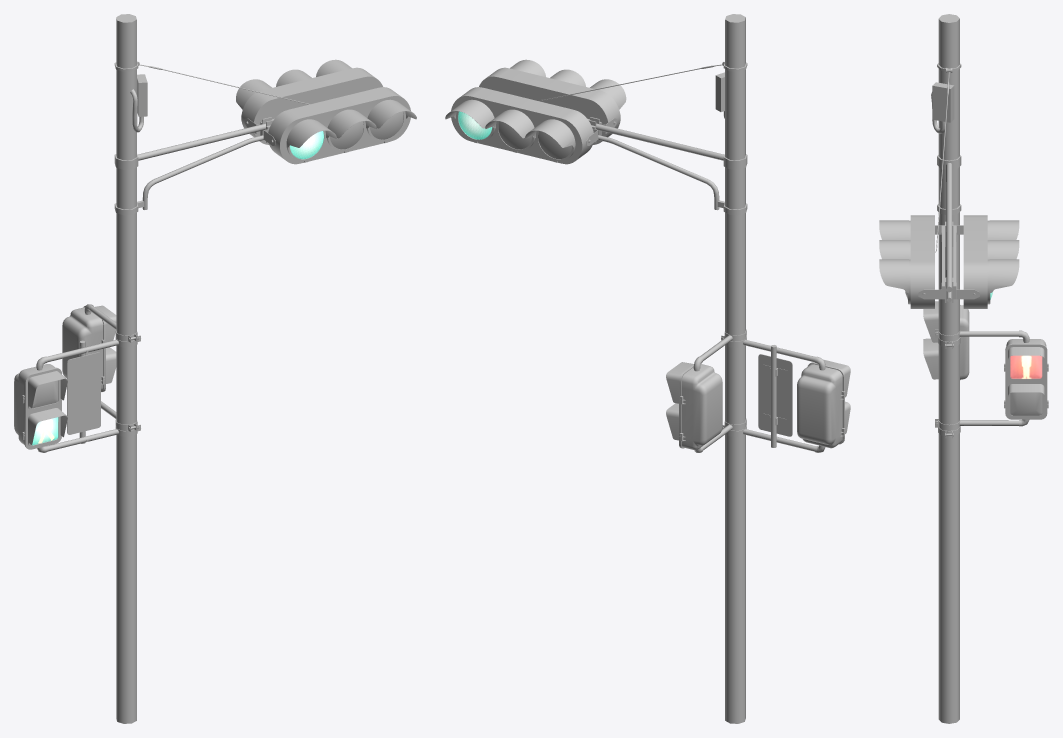
File: TrafficLight.fbx
3 views of the same model, side by side, from view 1: azimuth 30°, elevation 25°; view 2: azimuth 150°, elevation 25°; view 3: azimuth 270°, elevation 25° (orthographic).
Visible parts, largest first — view 1: TrafficLight_09_low, TrafficLight_01_low, TrafficLight_02_low, TrafficLight_15_low, TrafficLight_24_low, TrafficLight_19_low, TrafficLight_08_low, TrafficLight_16_low, TrafficLight_10_low, TrafficLight_18_low, TrafficLight_20_low; view 2: TrafficLight_09_low, TrafficLight_01_low, TrafficLight_15_low, TrafficLight_02_low, TrafficLight_19_low, TrafficLight_24_low, TrafficLight_08_low, TrafficLight_10_low, TrafficLight_18_low, TrafficLight_20_low; view 3: TrafficLight_09_low, TrafficLight_01_low, TrafficLight_02_low, TrafficLight_19_low, TrafficLight_10_low, TrafficLight_08_low, TrafficLight_16_low, TrafficLight_22_low, TrafficLight_13_low, TrafficLight_20_low, TrafficLight_15_low, TrafficLight_04_low (+1 smaller).
Boxes of the visible parts, x1,y1,x2,y2 form: TrafficLight_09_low: [116, 14, 136, 723]; TrafficLight_01_low: [241, 67, 410, 164]; TrafficLight_02_low: [236, 59, 416, 147]; TrafficLight_15_low: [14, 364, 61, 449]; TrafficLight_24_low: [67, 352, 100, 434]; TrafficLight_19_low: [62, 306, 105, 391]; TrafficLight_08_low: [137, 123, 265, 209]; TrafficLight_16_low: [28, 371, 67, 444]; TrafficLight_10_low: [114, 62, 144, 436]; TrafficLight_18_low: [36, 339, 118, 452]; TrafficLight_20_low: [95, 305, 116, 383]; TrafficLight_09_low: [725, 14, 745, 723]; TrafficLight_01_low: [451, 67, 620, 164]; TrafficLight_15_low: [797, 362, 844, 448]; TrafficLight_02_low: [445, 59, 626, 147]; TrafficLight_19_low: [679, 363, 722, 450]; TrafficLight_24_low: [758, 354, 792, 436]; TrafficLight_08_low: [596, 123, 724, 210]; TrafficLight_10_low: [717, 62, 747, 436]; TrafficLight_18_low: [743, 340, 825, 452]; TrafficLight_20_low: [666, 362, 693, 440]; TrafficLight_09_low: [938, 14, 959, 723]; TrafficLight_01_low: [905, 215, 992, 308]; TrafficLight_02_low: [879, 220, 1019, 292]; TrafficLight_19_low: [1005, 339, 1047, 419]; TrafficLight_10_low: [935, 63, 961, 438]; TrafficLight_08_low: [946, 163, 952, 302]; TrafficLight_16_low: [923, 301, 938, 379]; TrafficLight_22_low: [959, 330, 1029, 426]; TrafficLight_13_low: [932, 82, 954, 122]; TrafficLight_20_low: [1008, 347, 1044, 395]; TrafficLight_15_low: [960, 305, 969, 379]; TrafficLight_04_low: [918, 225, 979, 299].
Bounding box in the file's own units: 390 × 699 × 153.
